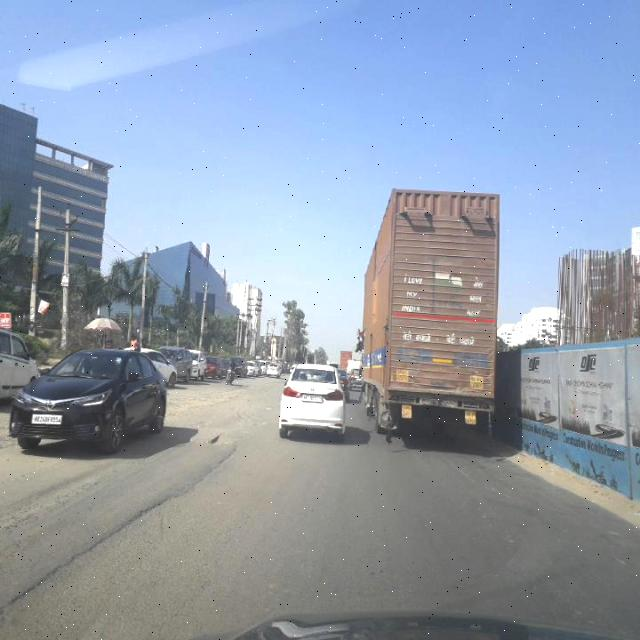D20: (444, 450, 558, 524)
D40: (203, 418, 250, 453)
